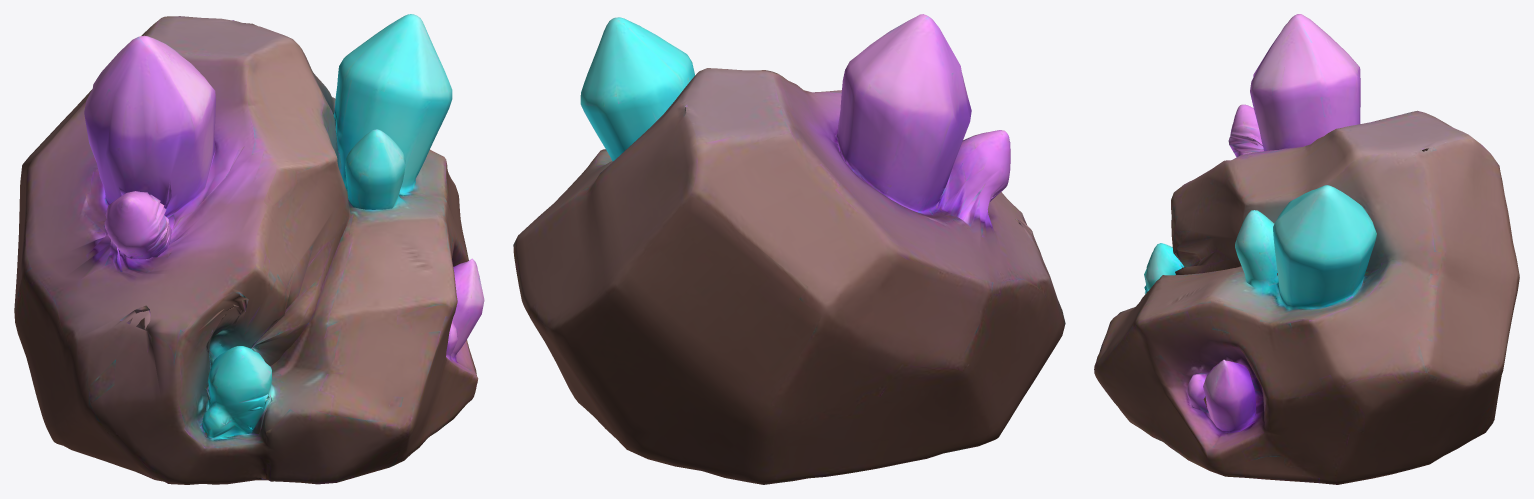
Rendered from mine-rock-3.glb.
The picture shows the model from 3 angles, left to right: view 1: azimuth 30°, elevation 25°; view 2: azimuth 150°, elevation 25°; view 3: azimuth 270°, elevation 25°; orthographic projection. The views are drawn at different scales.
Visible parts, largest first — view 1: tripo_node_13935655-bd1c-4a34-b211-89e99d9fb112; view 2: tripo_node_13935655-bd1c-4a34-b211-89e99d9fb112; view 3: tripo_node_13935655-bd1c-4a34-b211-89e99d9fb112.
Part boxes in pixels (bbox=[...]): tripo_node_13935655-bd1c-4a34-b211-89e99d9fb112: bbox=[14, 14, 484, 484]; tripo_node_13935655-bd1c-4a34-b211-89e99d9fb112: bbox=[513, 14, 1065, 484]; tripo_node_13935655-bd1c-4a34-b211-89e99d9fb112: bbox=[1094, 14, 1519, 484].
Size of the model in its own units: 0.9956 by 0.8575 by 0.9668.
1 material, 1 textured.
